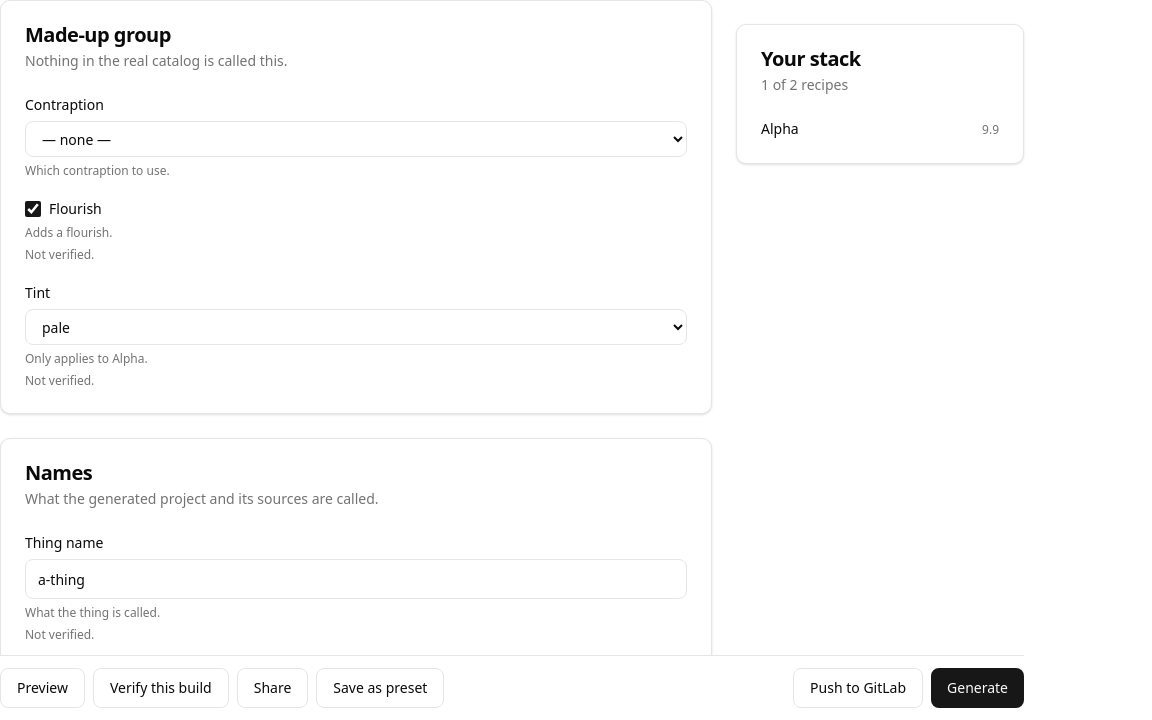
it: Wizard › offers a push beside Generate without displacing it
Expected: the text "Alpha" is shown, 761,119 -> 799,139
Click the button "Push to GitLab".
click(858, 688)  # box 793,668 -> 923,708
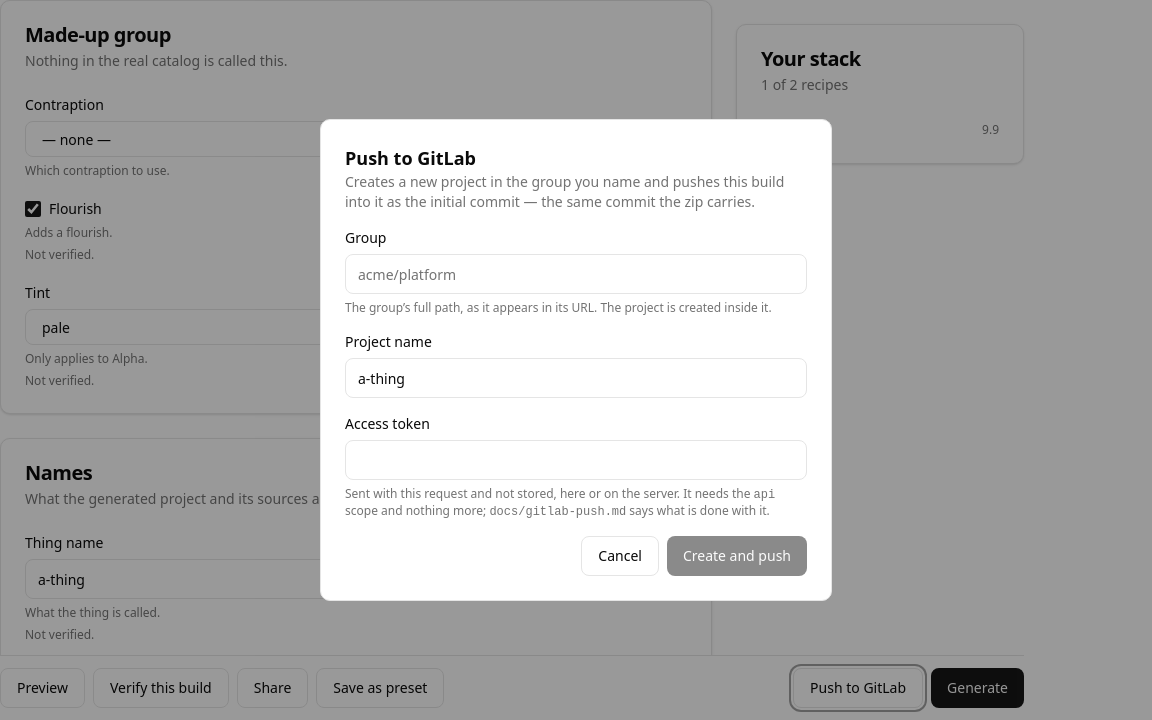
Expected: the dialog with test id "push-dialog" is shown
